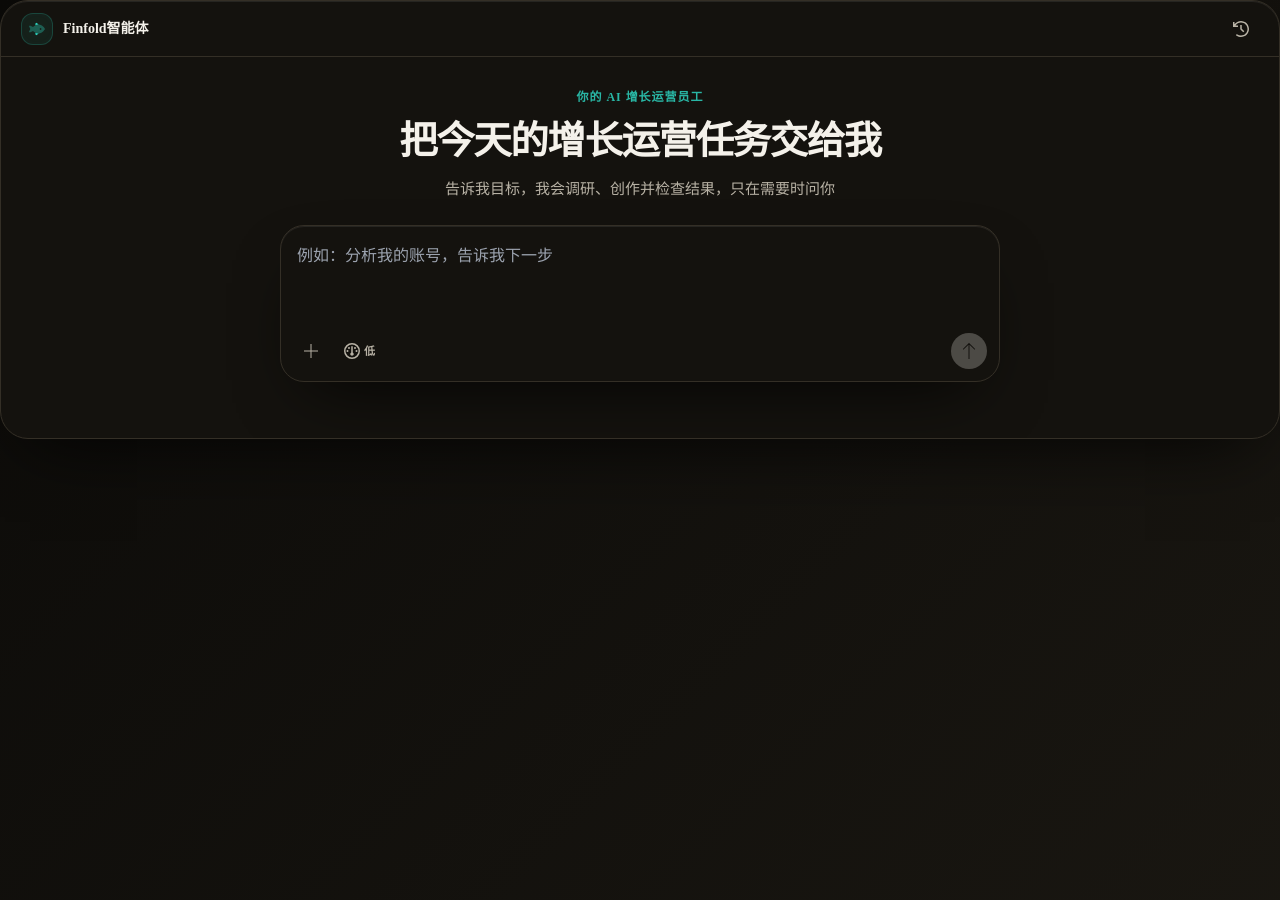
Scenario: AgentAutomationCenter task queue › discards a queued task without ever sending it
Type "第一个任务" into the text box with placeholder "例如：分析我的账号，告诉我下一步" at (640, 280), box [293,238,987,322]
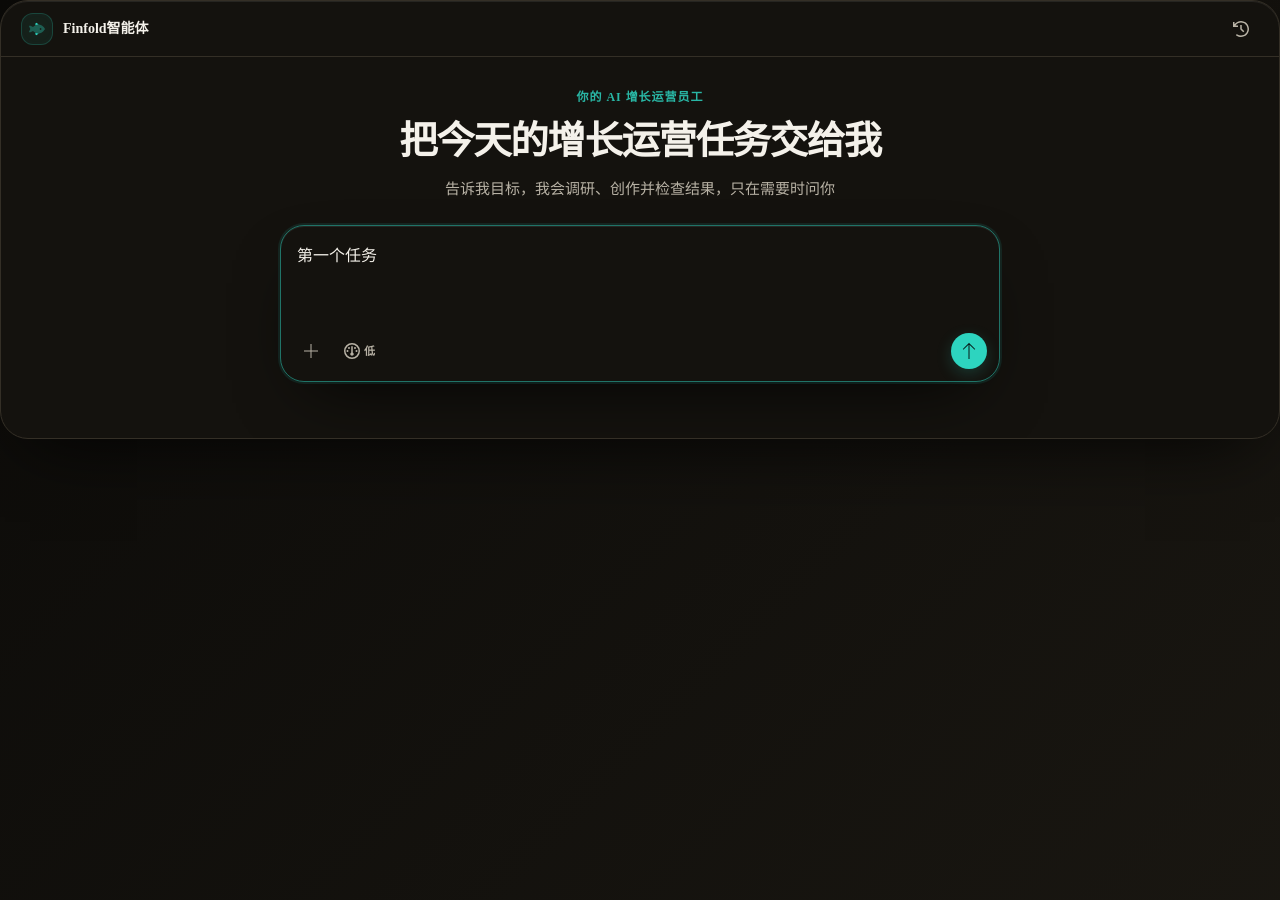
Click the button named "发送" at (969, 351), box [951,333,987,369]
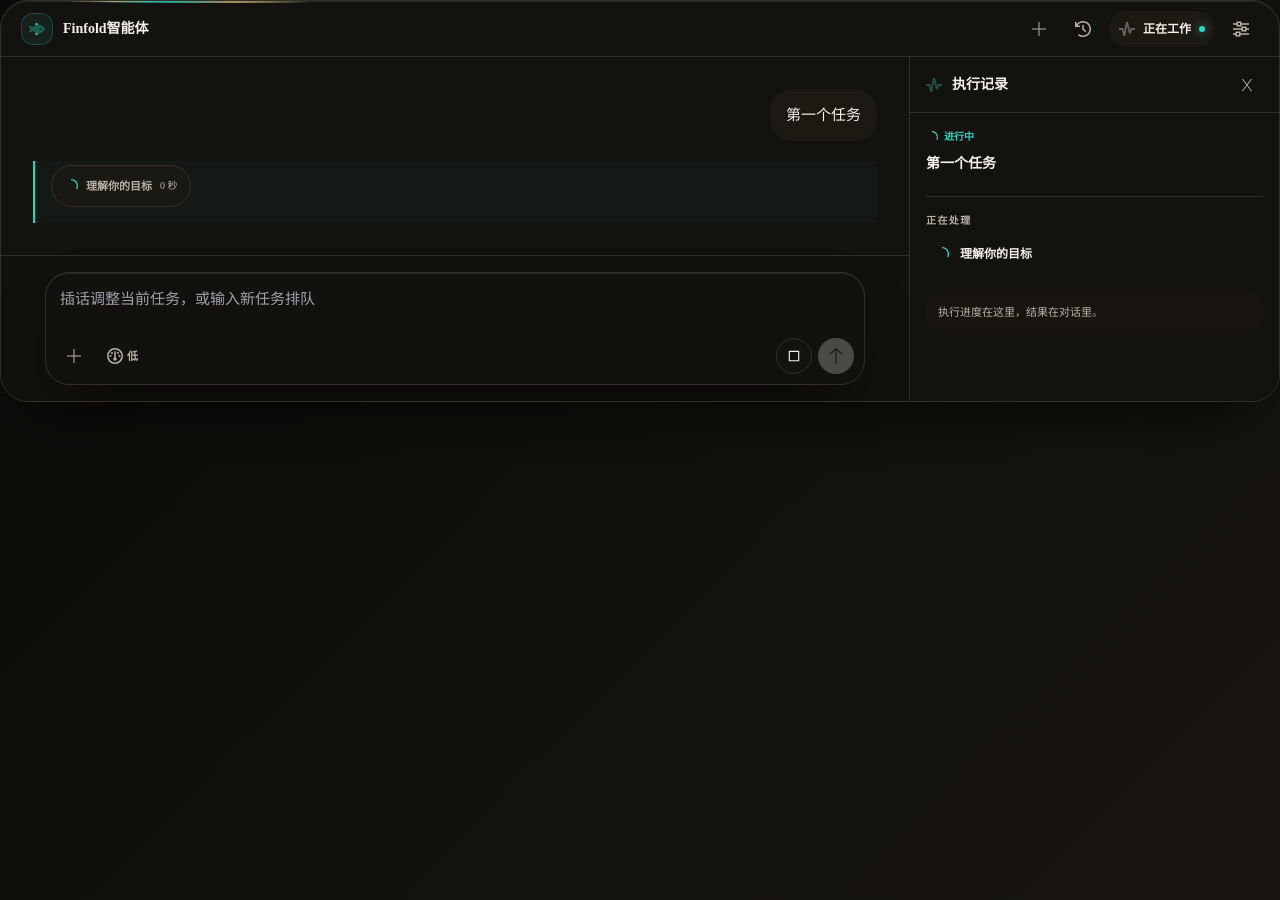
Type "排队的任务" into the text box with placeholder "插话调整当前任务，或输入新任务排队" at (455, 305), box [56,283,854,327]
Then press Enter
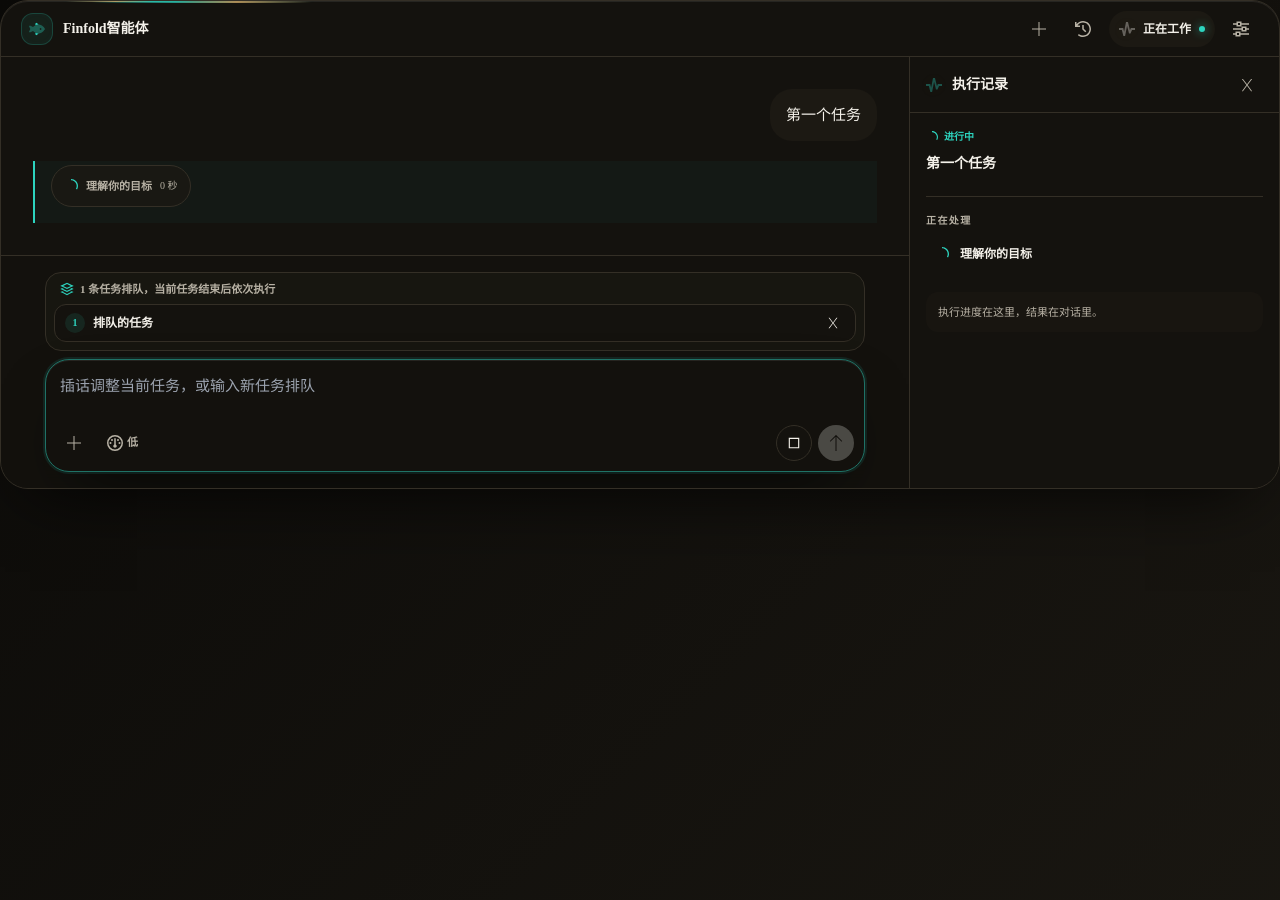
Click the button named "放弃这条排队任务" at (833, 322), box [821,310,845,334]
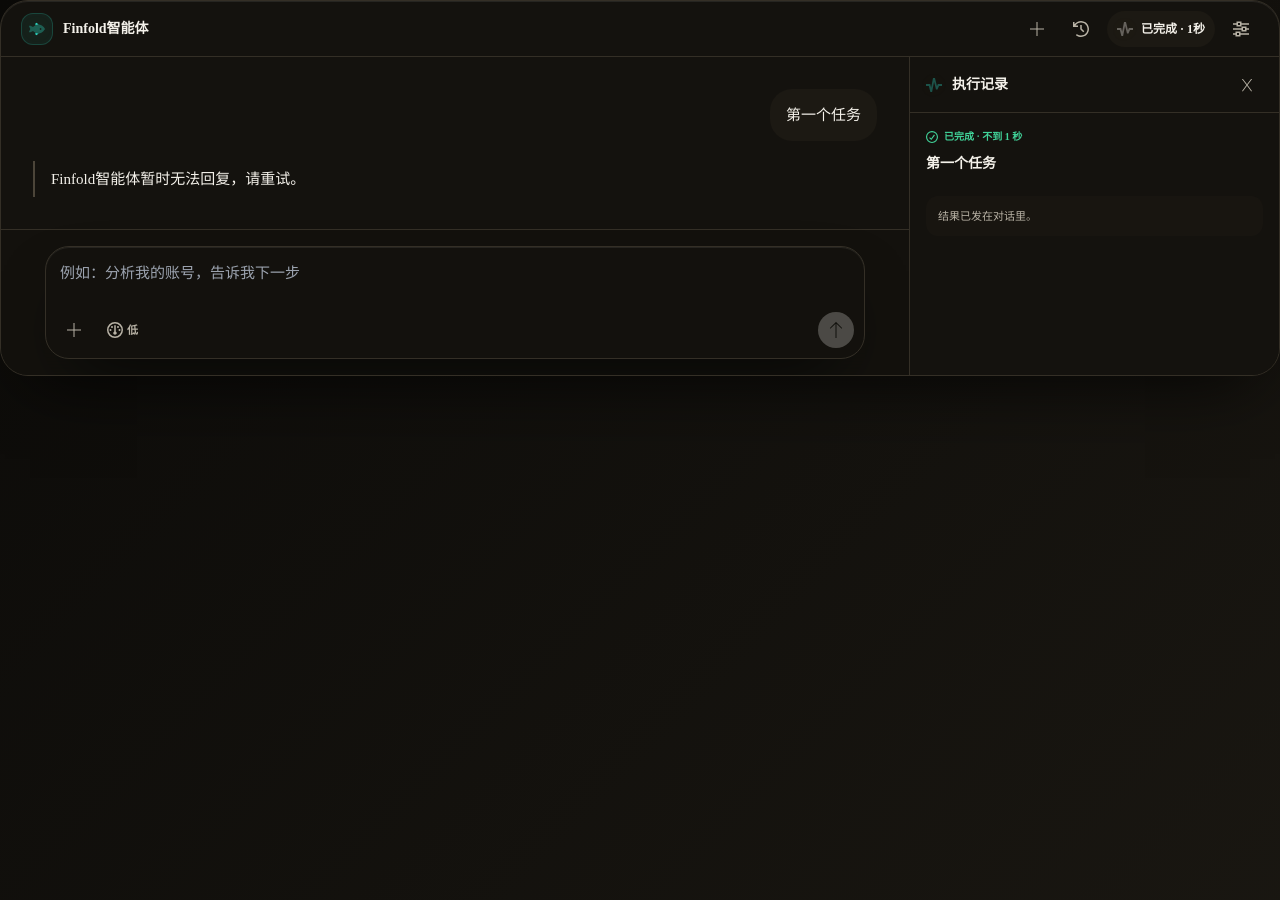
Check: the list "排队任务" is gone
